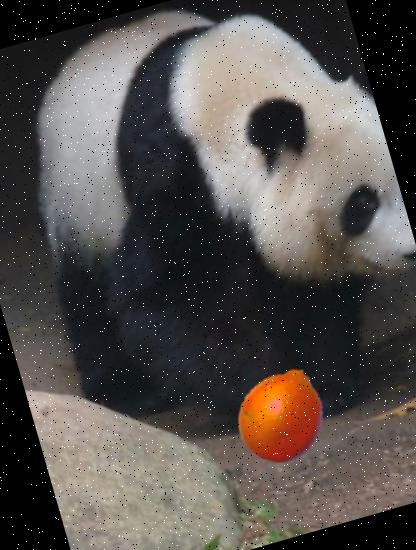Tangelo: (223, 354, 343, 475)
